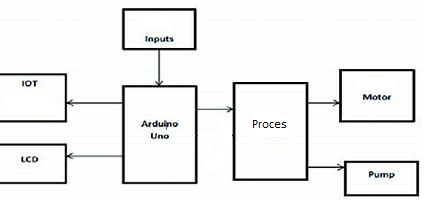arrow: (65, 98, 125, 107), (65, 151, 124, 160), (154, 49, 165, 87), (306, 163, 344, 171), (196, 105, 233, 113), (307, 98, 339, 107)
process: (120, 84, 200, 186), (231, 80, 310, 182), (337, 67, 417, 122), (1, 71, 69, 124), (120, 7, 199, 52), (342, 159, 421, 198), (1, 142, 68, 185)
text: (139, 119, 180, 140), (252, 118, 288, 128), (144, 34, 175, 44), (367, 170, 396, 179), (361, 93, 392, 101), (19, 154, 40, 164), (20, 78, 39, 89)
